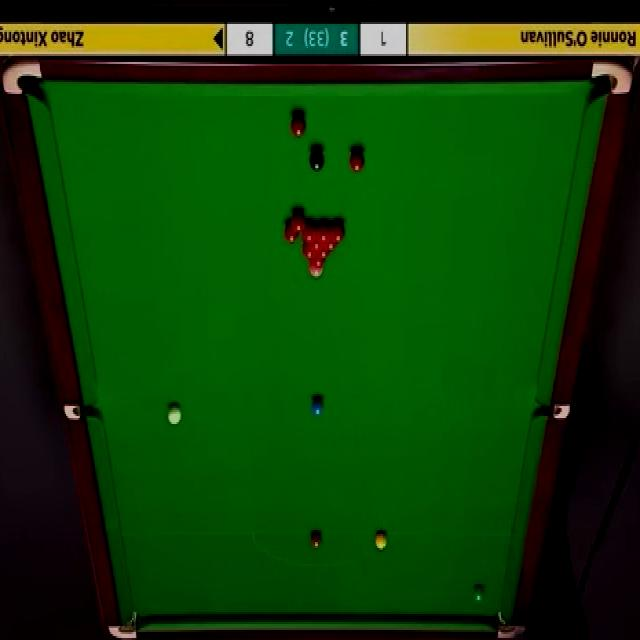black-ball: (308, 146, 324, 172)
blue-ball: (311, 397, 324, 416)
brown-ball: (310, 530, 323, 549)
green-ball: (473, 584, 485, 602)
pink-ball: (307, 267, 324, 280)
red-ball: (349, 148, 366, 174), (290, 112, 305, 138), (301, 220, 316, 243), (331, 222, 346, 244), (284, 220, 298, 243), (292, 210, 306, 232), (317, 222, 331, 244), (302, 244, 315, 260), (310, 260, 328, 270), (316, 250, 332, 260), (308, 243, 324, 251), (324, 242, 338, 251)
white-ball: (166, 400, 183, 427)
yellow-ball: (375, 532, 388, 551)
